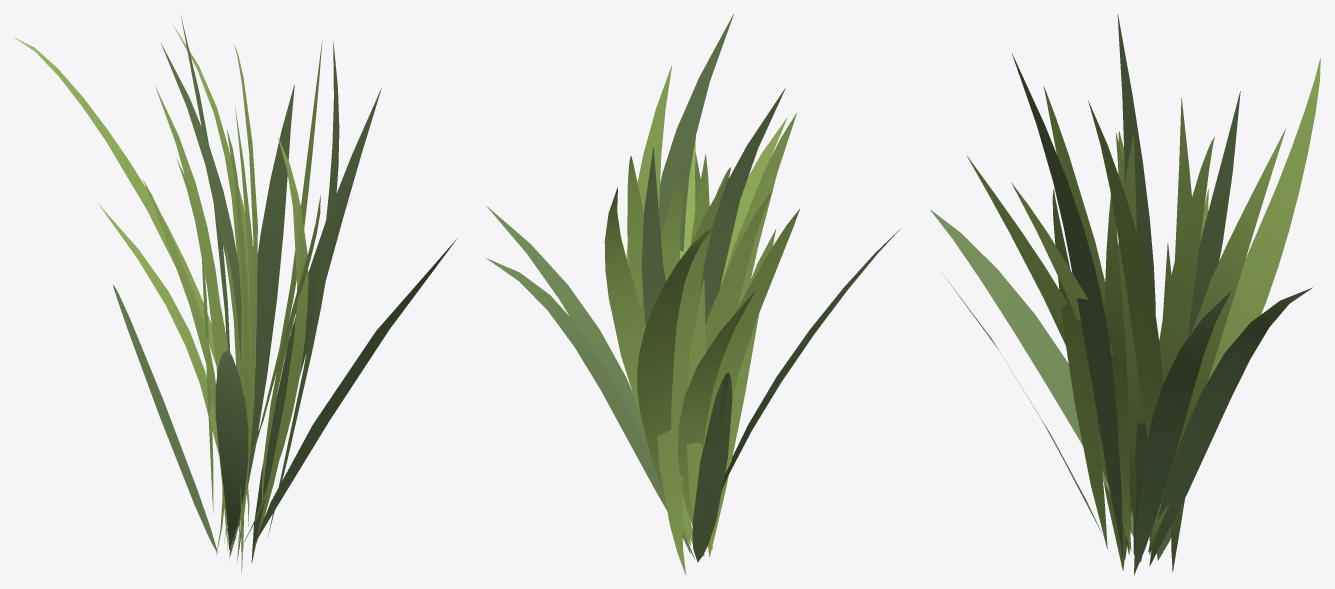
File: grass 2.fbx
3 views of the same model, side by side, from view 1: azimuth 30°, elevation 25°; view 2: azimuth 150°, elevation 25°; view 3: azimuth 270°, elevation 25° (orthographic). The views are drawn at different scales.
Visible parts, largest first — view 1: grass2; view 2: grass2; view 3: grass2.
Part boxes in pixels (x1,y1,x2,y2): grass2: [14, 16, 457, 573]; grass2: [486, 14, 900, 574]; grass2: [930, 14, 1320, 574].
Bounding box in the file's own units: 53.45 × 91.29 × 60.52.
